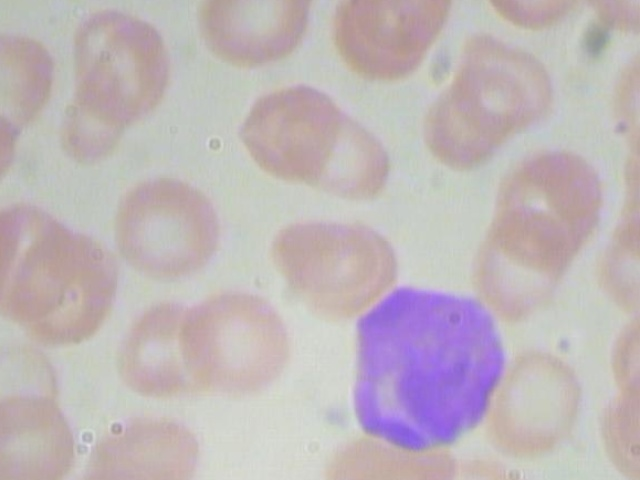RBC: (2, 226, 122, 351), (487, 147, 607, 271), (104, 172, 234, 284), (468, 204, 587, 319), (482, 342, 596, 459), (178, 283, 291, 400), (272, 98, 395, 205), (448, 26, 560, 135), (235, 76, 346, 185), (63, 5, 174, 114), (111, 297, 215, 399), (190, 0, 319, 77), (265, 213, 379, 295), (344, 0, 458, 59), (593, 213, 640, 330), (602, 35, 640, 168), (480, 0, 594, 34), (578, 0, 640, 34)
WBC: (336, 284, 511, 458)
